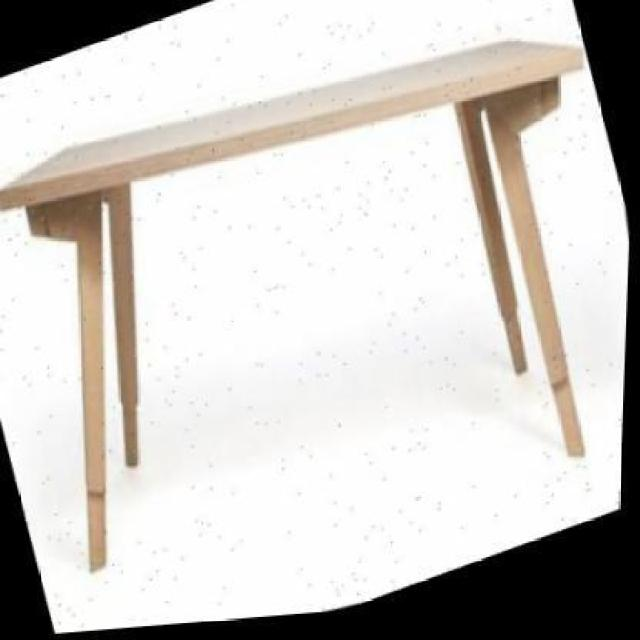tables: (0, 1, 589, 572)
